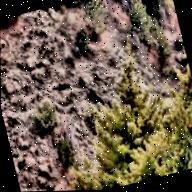boar: (63, 50, 78, 73), (60, 26, 72, 44), (87, 84, 99, 101), (74, 46, 84, 65), (77, 74, 87, 91), (71, 42, 79, 61)
